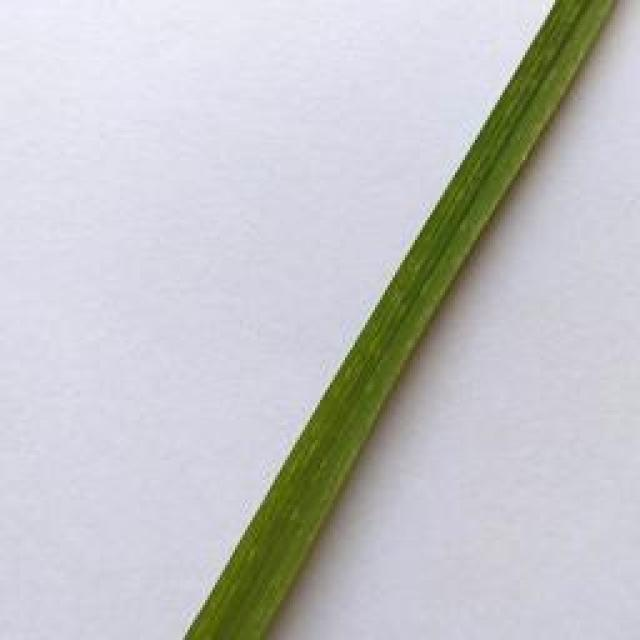Healthy-Plant: (182, 0, 613, 640)
